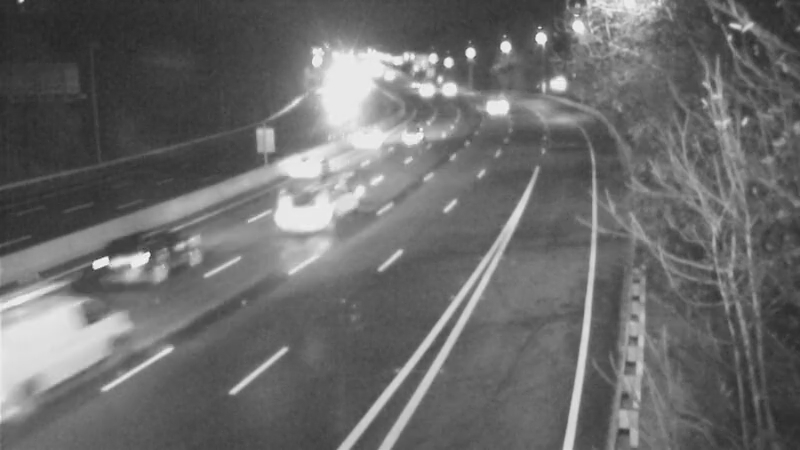vehicle: (1, 290, 101, 400), (264, 127, 344, 207), (267, 177, 347, 257), (81, 225, 161, 305), (424, 63, 474, 113), (395, 64, 445, 114), (470, 80, 520, 130), (387, 108, 437, 158), (343, 115, 393, 165)
